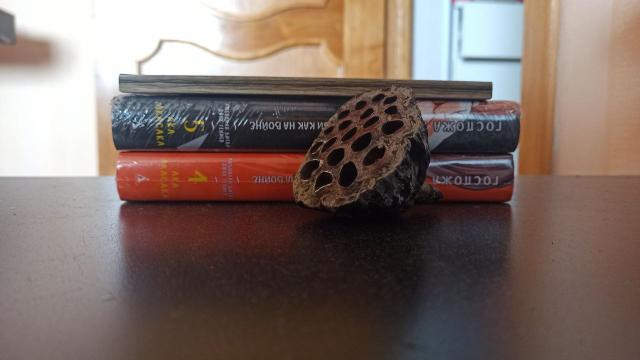book-s-spine: (111, 96, 521, 153), (116, 152, 515, 201)
